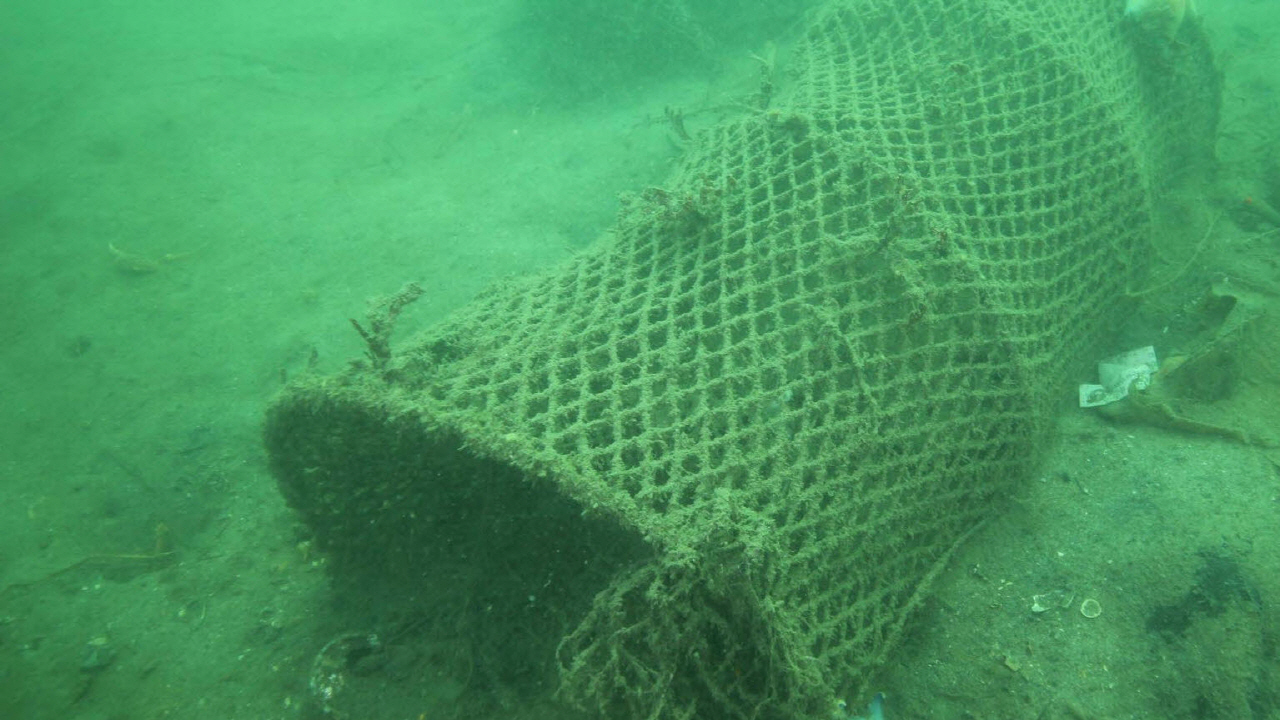spring fish trap: (255, 0, 1219, 720)
